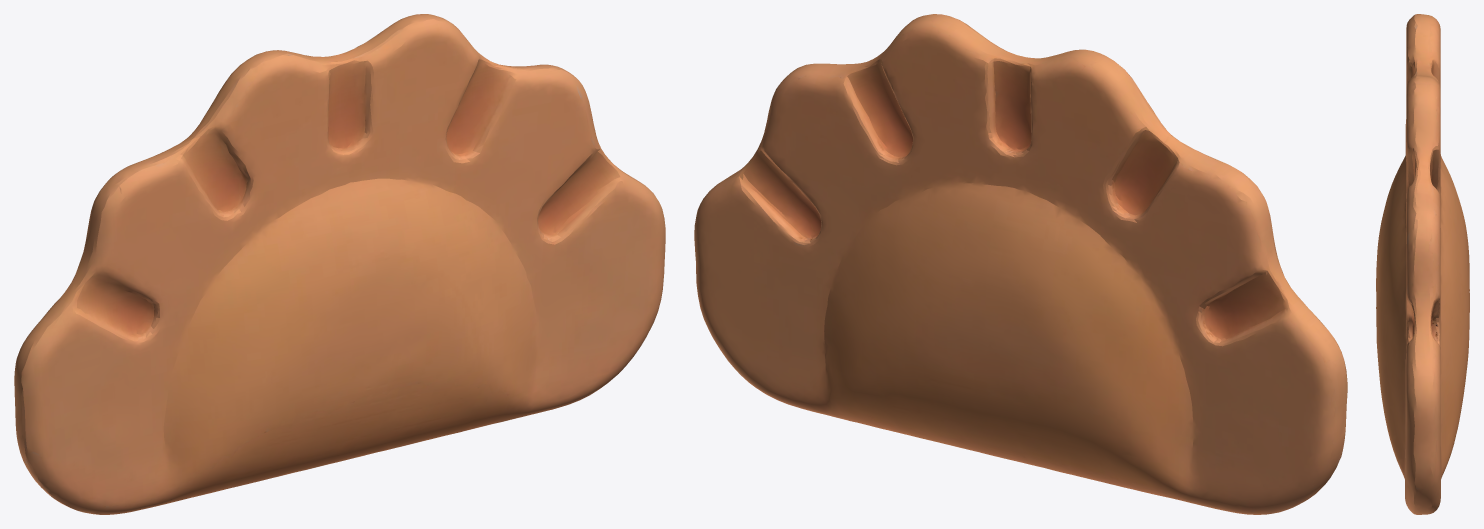
File: dumpling.glb
3 views of the same model, side by side, from view 1: azimuth 30°, elevation 25°; view 2: azimuth 150°, elevation 25°; view 3: azimuth 270°, elevation 25° (orthographic). The views are drawn at different scales.
Parts seen in each view (by area): view 1: Mesh; view 2: Mesh; view 3: Mesh.
Part boxes in pixels (left/top/right/bottom): Mesh: left=14, top=14, right=665, bottom=514; Mesh: left=694, top=14, right=1347, bottom=514; Mesh: left=1376, top=14, right=1469, bottom=514.
Size of the model in its own units: 1 by 0.625 by 0.1447.
Materials: 1 (1 with a texture image).
